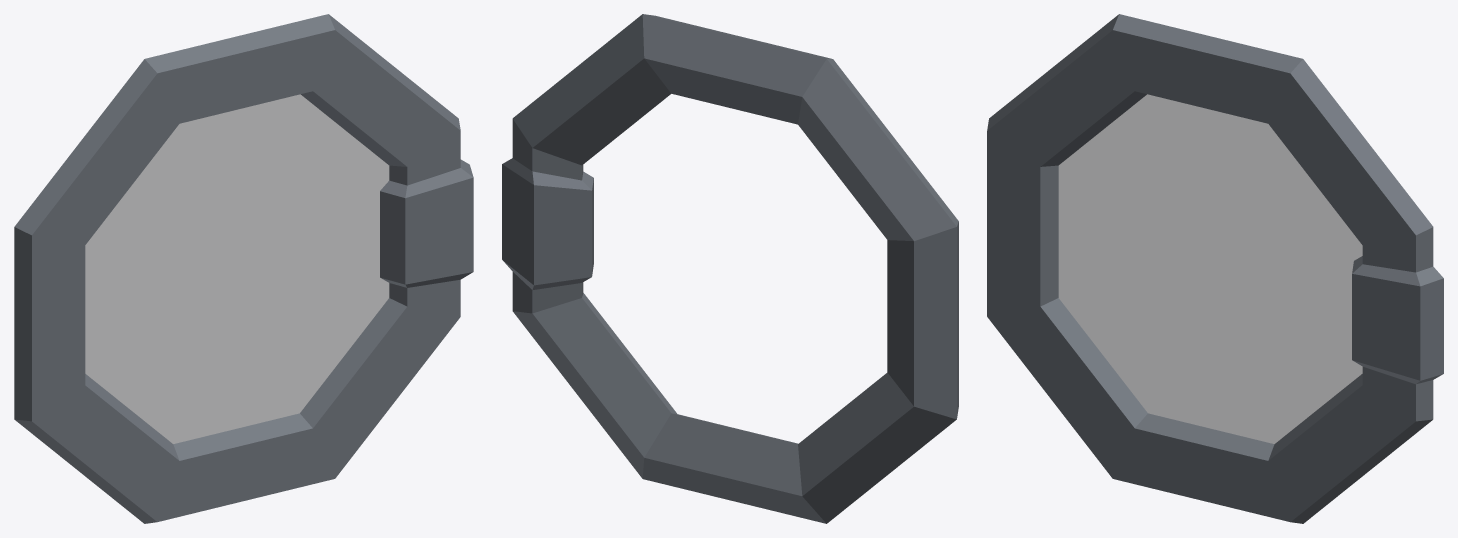
Rendered from SM_Prop_Laundry_Washer_Door_01.glb.
3 views of the same model, side by side, from view 1: azimuth 30°, elevation 25°; view 2: azimuth 150°, elevation 25°; view 3: azimuth 330°, elevation 25° (orthographic).
Visible parts, largest first — view 1: SM_Prop_Laundry_Washer_Door_01; view 2: SM_Prop_Laundry_Washer_Door_01; view 3: SM_Prop_Laundry_Washer_Door_01.
Part boxes in pixels (bbox=[...]): SM_Prop_Laundry_Washer_Door_01: bbox=[14, 14, 473, 523]; SM_Prop_Laundry_Washer_Door_01: bbox=[502, 14, 958, 523]; SM_Prop_Laundry_Washer_Door_01: bbox=[987, 14, 1443, 523].
Bounding box in the file's own units: 0.6466 × 0.6314 × 0.073.
Materials: 2 (2 with a texture image).
